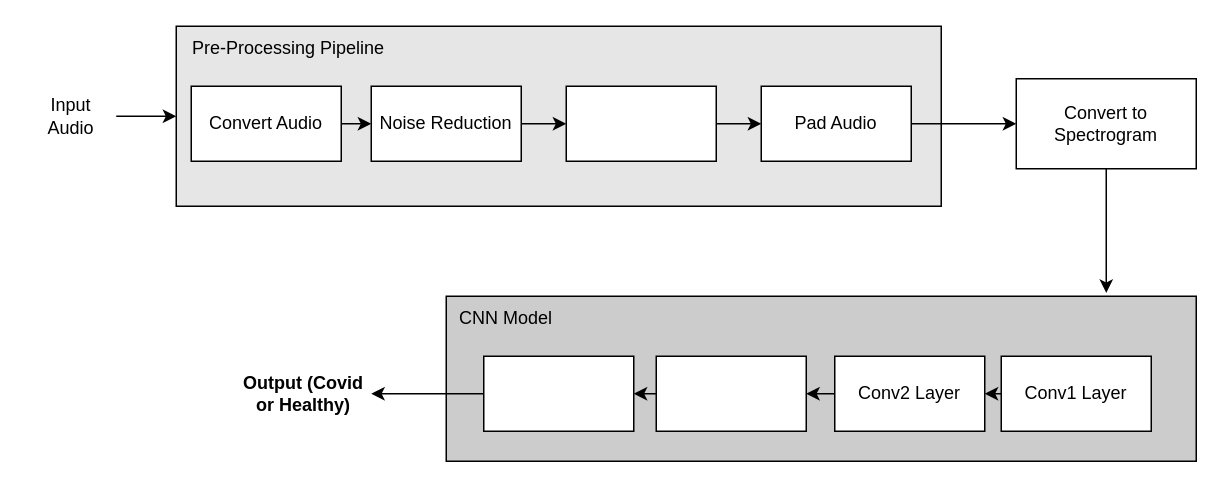
Image size: 1223x488. Some labels were removed from this diagram. Each missing label, with the centre of its shape:
"Conv3 Layer" belongs at [730,393].
"FCC (Flattened)" belongs at [558,393].
"Trim Silence" belongs at [640,123].
